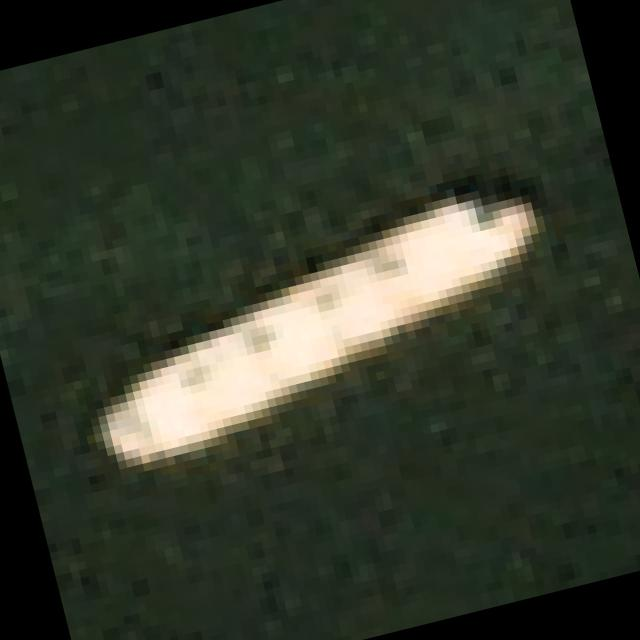ship: (30, 152, 620, 533)
